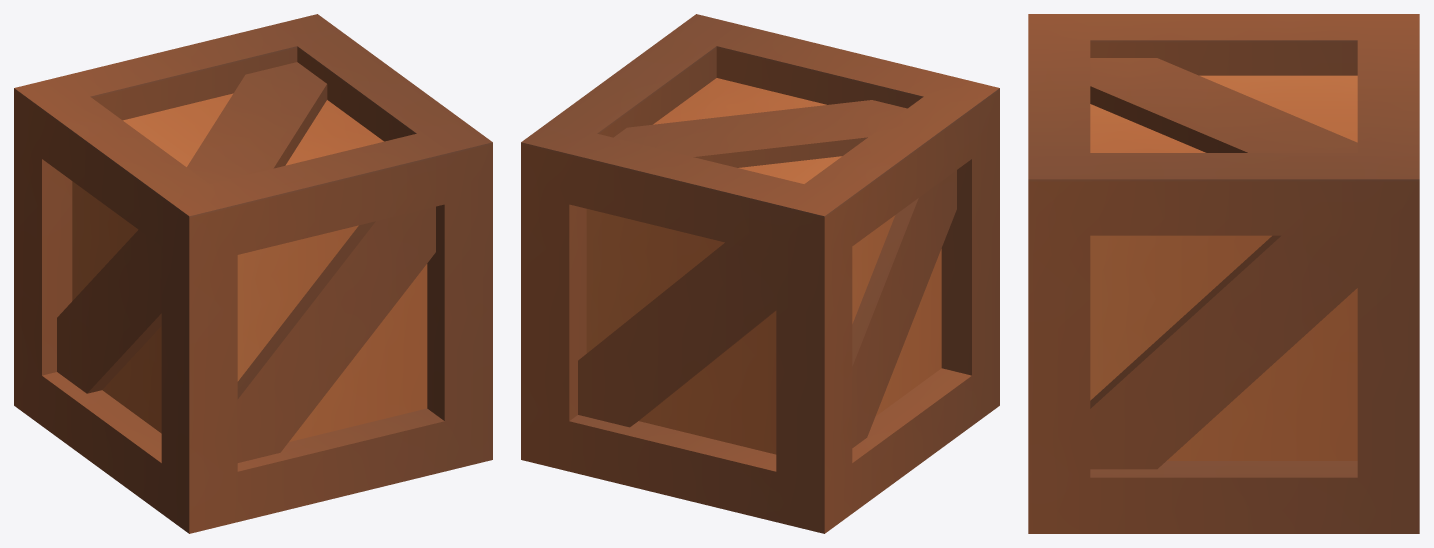
File: crate.glb
3 renders of one model, left to right at view 1: azimuth 30°, elevation 25°; view 2: azimuth 150°, elevation 25°; view 3: azimuth 270°, elevation 25°, orthographic. The views are drawn at different scales.
Visible parts, largest first — view 1: crate; view 2: crate; view 3: crate.
Part boxes in pixels (<box>): crate: <box>14,14,492,533</box>; crate: <box>521,14,999,533</box>; crate: <box>1028,14,1419,533</box>.
Bounding box in the file's own units: 0.5 × 0.5 × 0.5.
1 material, 1 textured.
